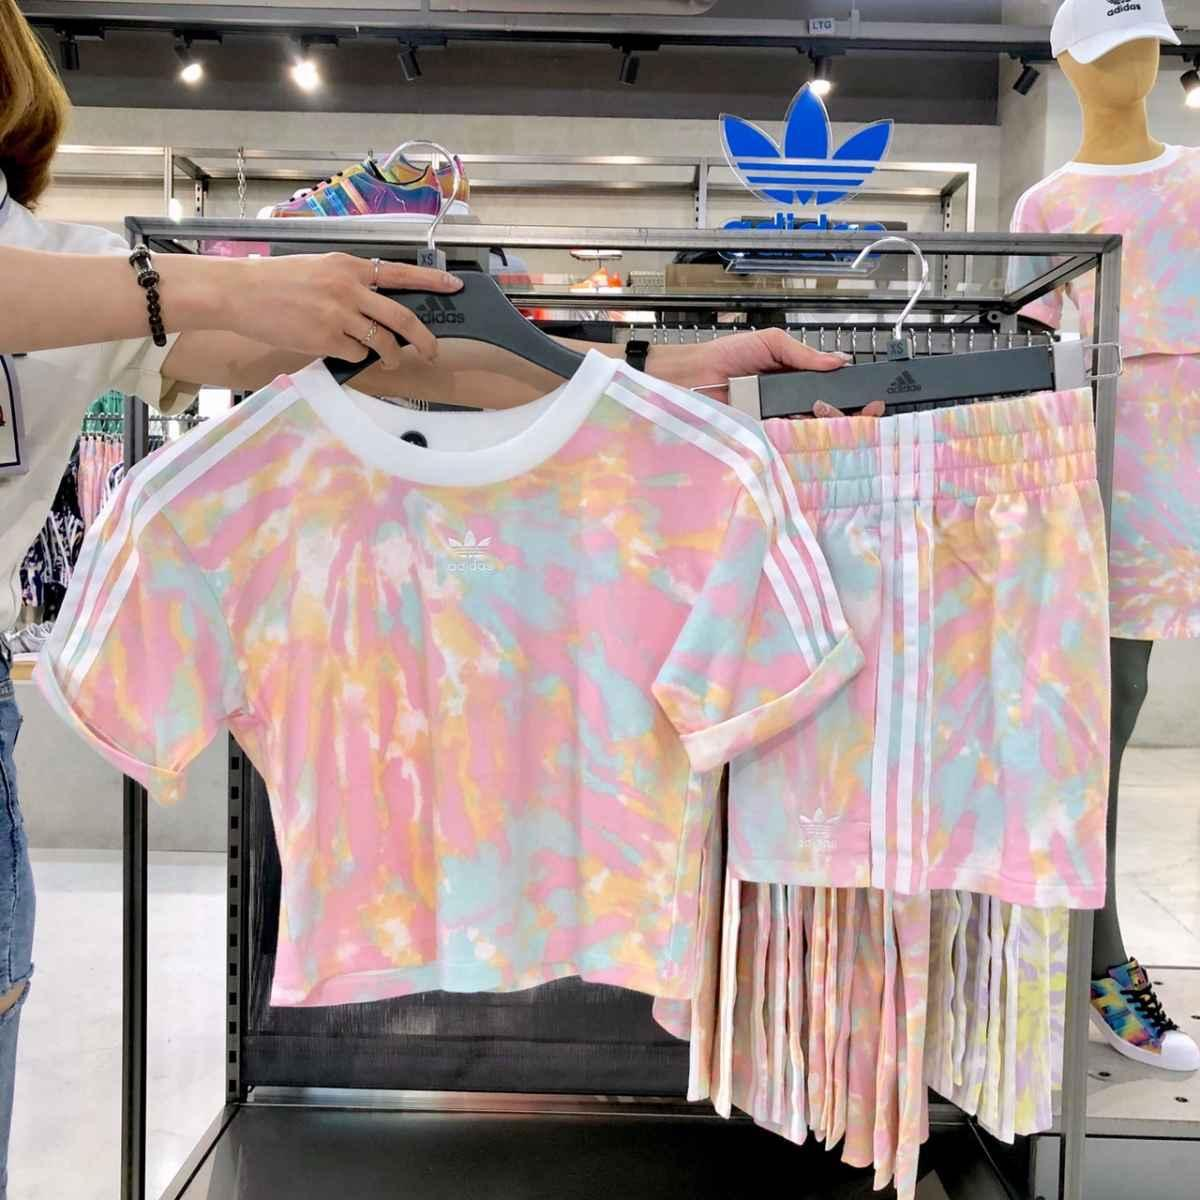Tshirt: (53, 348, 811, 997)
